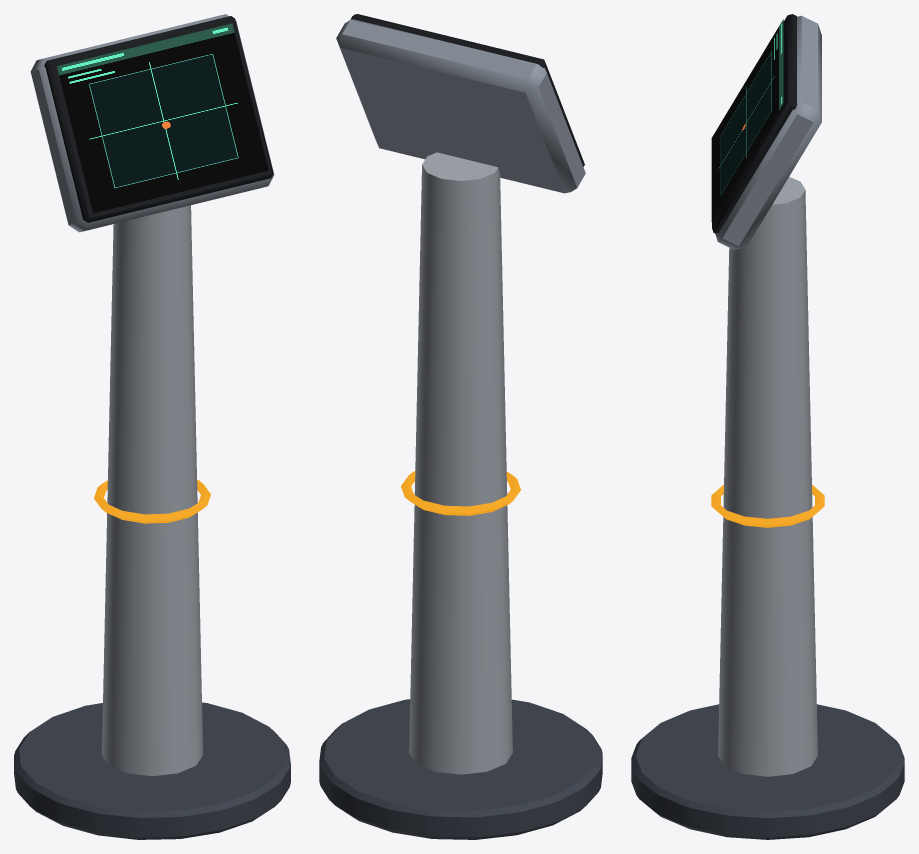
The model's file is terminal_pedestal_terminal.glb.
3 renders of one model, left to right at view 1: azimuth 30°, elevation 25°; view 2: azimuth 150°, elevation 25°; view 3: azimuth 270°, elevation 25°, orthographic. The views are drawn at different scales.
Parts seen in each view (by area): view 1: terminal_pedestal_terminal; view 2: terminal_pedestal_terminal; view 3: terminal_pedestal_terminal.
Boxes of the visible parts, <box> form: terminal_pedestal_terminal: <box>14,14,290,839</box>; terminal_pedestal_terminal: <box>319,14,602,839</box>; terminal_pedestal_terminal: <box>631,14,904,839</box>.
Size of the model in its own units: 0.4375 by 1.28 by 0.4375.
6 materials, 1 textured.
